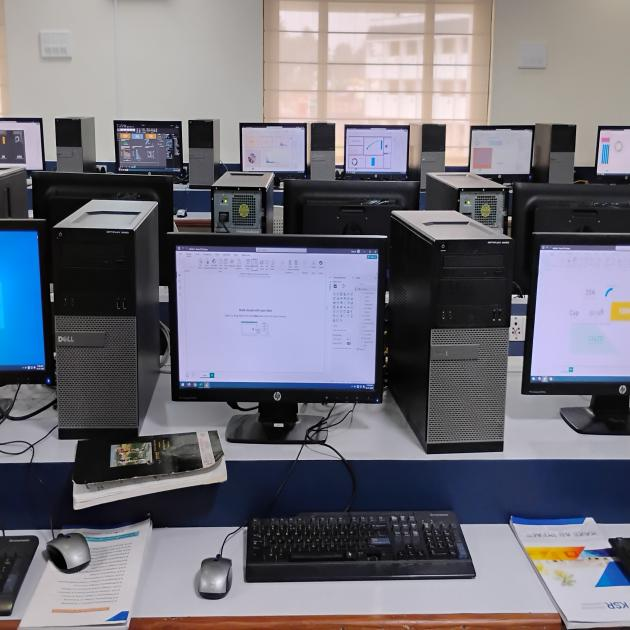computer: (172, 226, 389, 451)
cpu: (398, 210, 524, 472), (53, 201, 168, 454), (185, 109, 229, 188), (310, 120, 343, 189)
keyboard: (241, 501, 479, 587)
mouse: (197, 550, 239, 610), (51, 527, 95, 574)
notebook: (513, 502, 629, 630)
